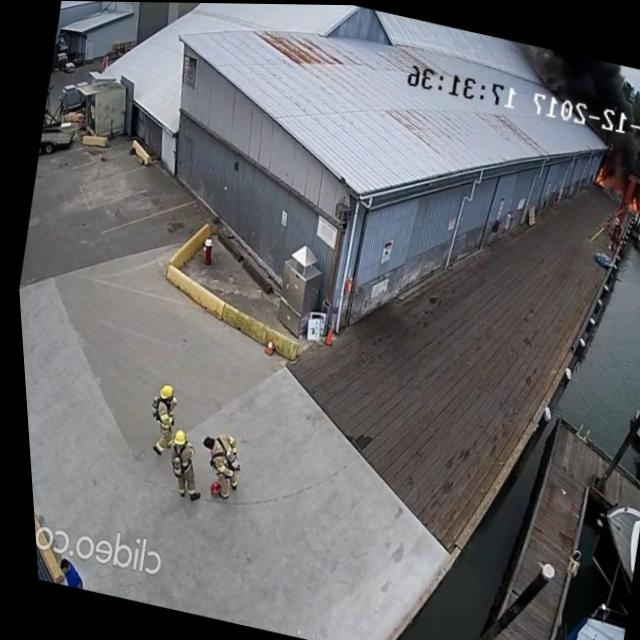fire: (588, 159, 609, 188), (624, 184, 640, 215)
